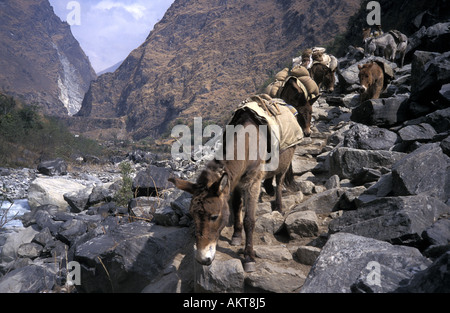equine: (165, 97, 316, 277), (261, 62, 332, 138), (343, 47, 394, 102)
